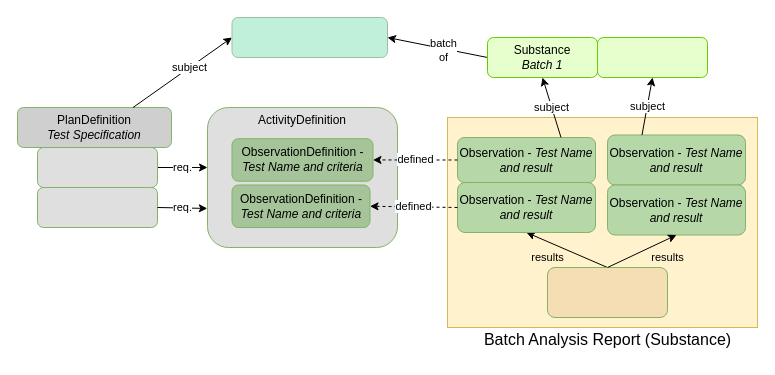
This 775x375 diagram has some shape labels left out. Each missing label, with the centre of its shape:
"Action End of Shelf Life" goes at pixel 97 207.
"Action Release Time" goes at pixel 97 167.
"DiagnosticReport List of values and conclusion (shelf life)" goes at pixel 607 292.
"Substance Batch 2" goes at pixel 652 57.
"SubstanceDefinition Stelbatolol" goes at pixel 309 37.
